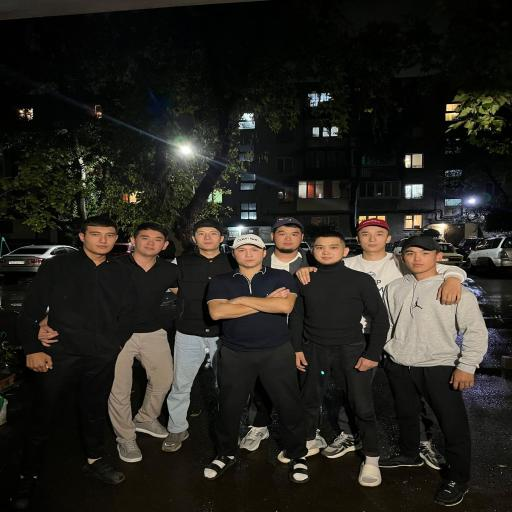book: (0, 232, 96, 281)
crosswalk: (197, 232, 316, 492), (376, 232, 482, 510)
